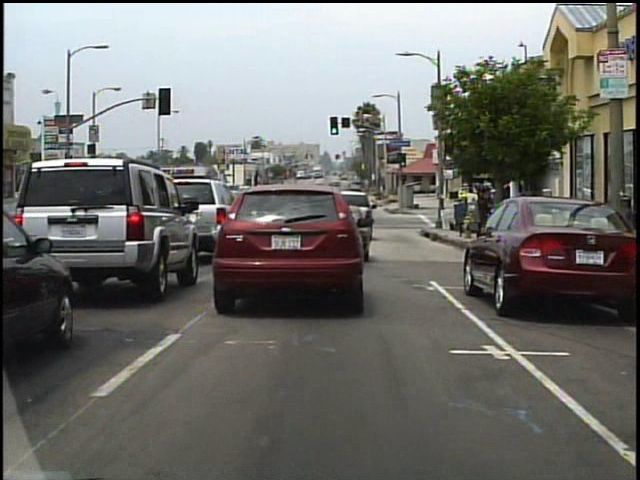person: (477, 191, 492, 241)
